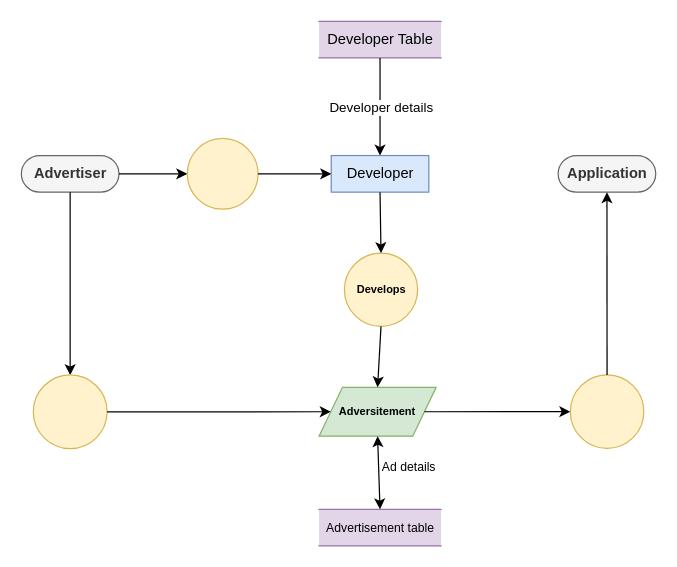
This 677x567 diagram has some shape labels left out. The shapes that lost their labels are listed below. From the top down, each one's centre as x and y in pixels, then its label:
(222,173): Reaches Out
(69,411): Pays for Ad
(606,411): Published in
